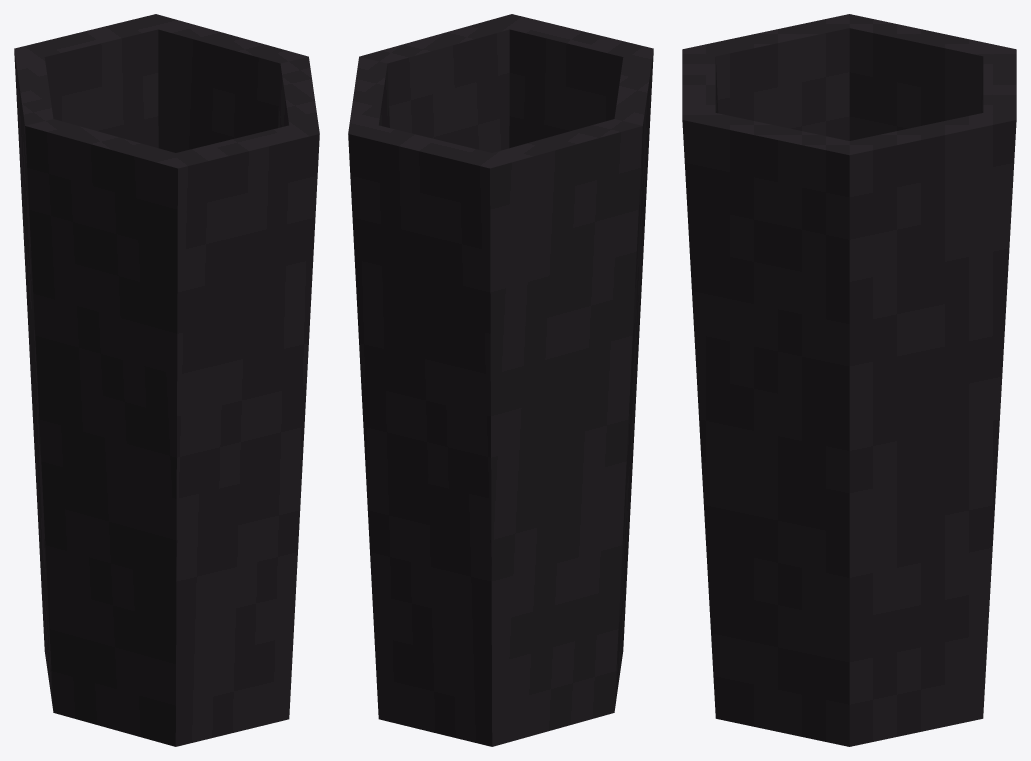
Rendered from culto.glb.
3 views of the same model, side by side, from view 1: azimuth 30°, elevation 25°; view 2: azimuth 150°, elevation 25°; view 3: azimuth 270°, elevation 25° (orthographic). The views are drawn at different scales.
Visible parts, largest first — view 1: brazale; view 2: brazale; view 3: brazale.
Boxes of the visible parts, x1,y1,x2,y2 form: brazale: (14, 14, 319, 746); brazale: (348, 14, 653, 746); brazale: (682, 14, 1016, 746).
Bounding box in the file's own units: 0.15 × 0.3 × 0.15.
1 material, 1 textured.
